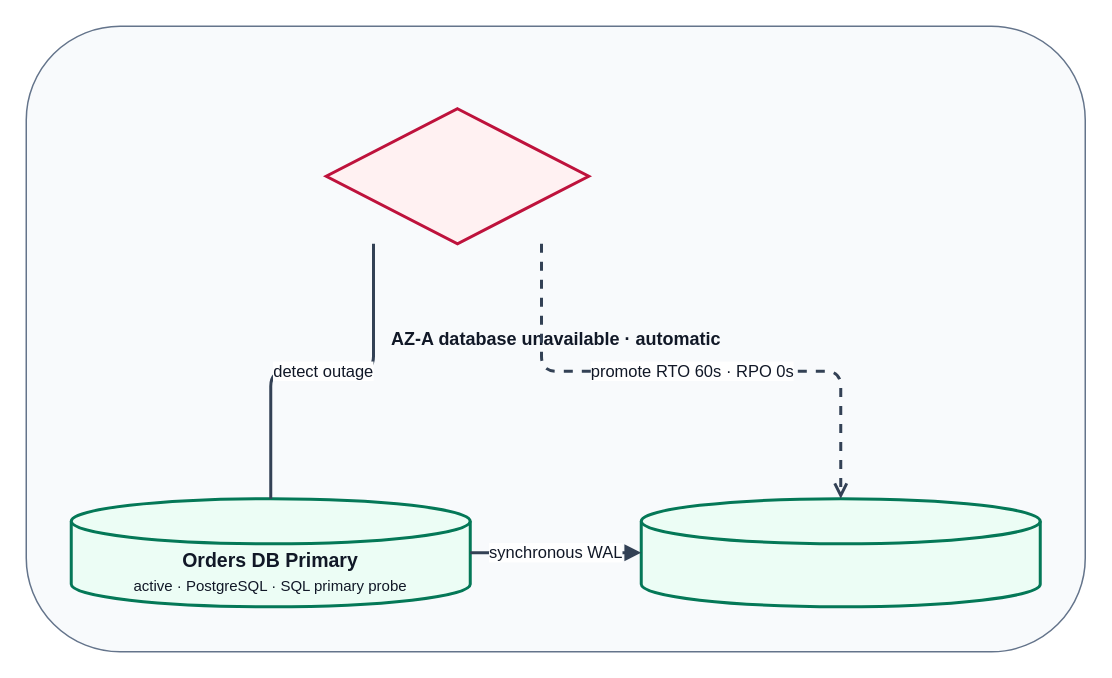
Some shapes in this 1112 by 678 pixel diagram are drawn without their labels. The box of each missing label's shape, as (x1, y1, x2, y2) in pixels:
Failure detector SQL primary probe: (324, 106, 590, 244)
Orders DB Standby standby · PostgreSQL · SQL replica probe: (639, 496, 1041, 608)
